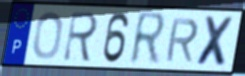6: (101, 11, 130, 65)
O: (31, 10, 65, 61)
R: (127, 11, 168, 68), (61, 10, 101, 64), (163, 17, 201, 64)
X: (194, 14, 237, 69)
